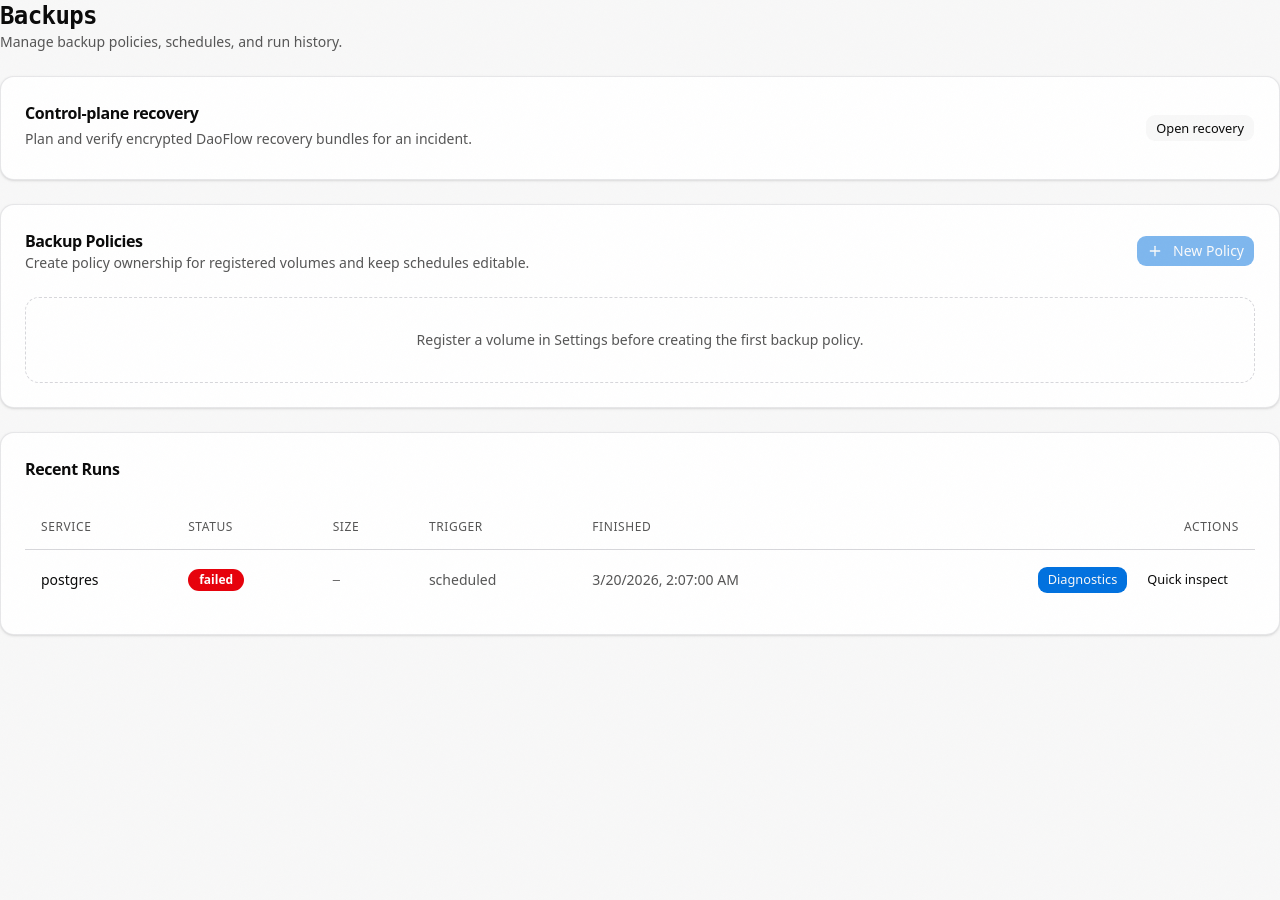
it: BackupsPage › opens the backup run details sheet from the runs table
Click the button with test id "backup-run-inspect-run_failed" at (1188, 580), box [1136,566,1239,594]
(page scrolled)
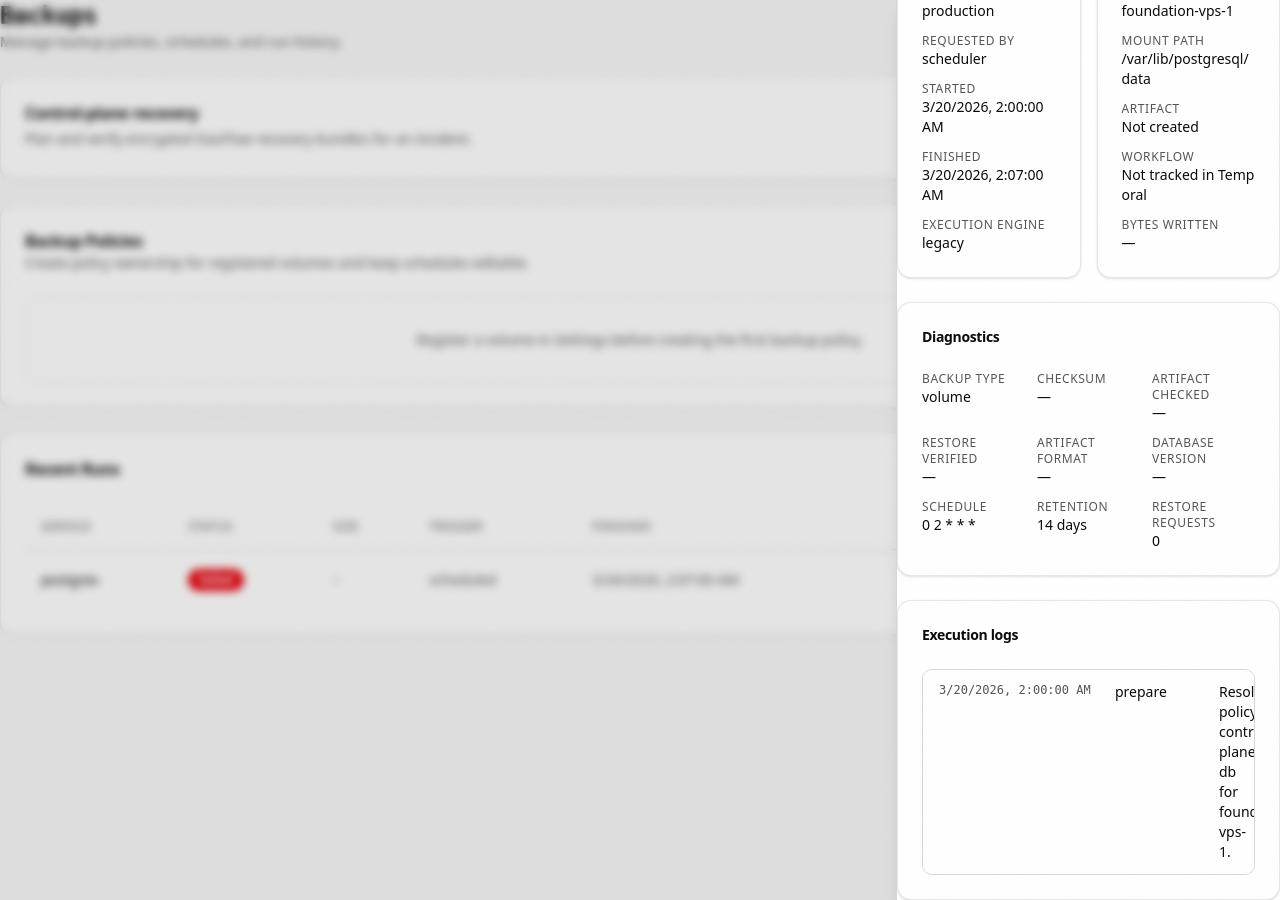
expect the dialog with test id "backup-run-details-sheet" is shown: met, box [896,0,1279,899]
